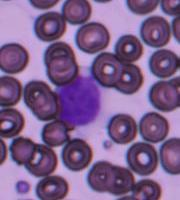L: (56, 72, 106, 128)
